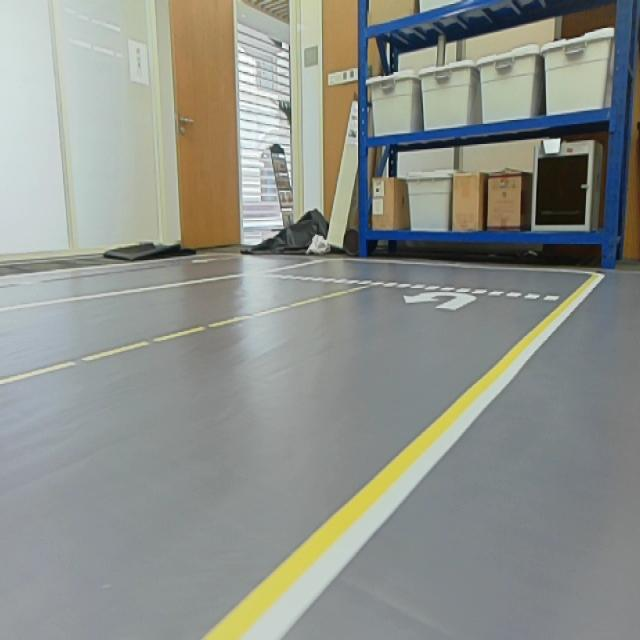left_lane: (0, 285, 367, 387)
right_lane: (198, 276, 605, 639), (1, 261, 325, 314)
